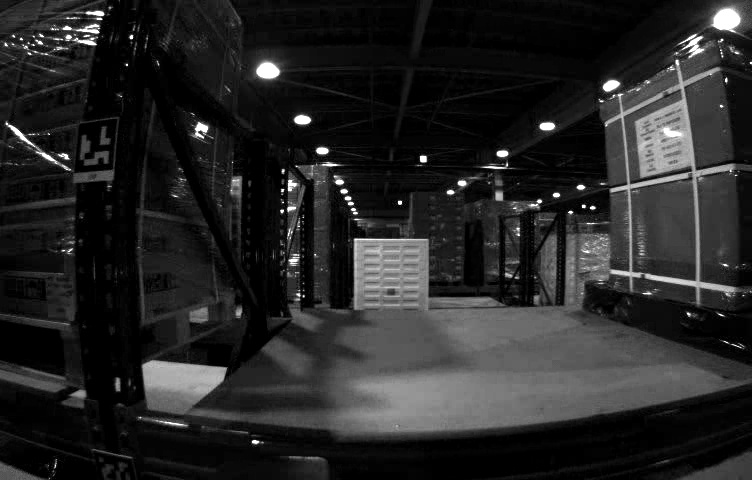True Barcode: (45, 275, 74, 322)
